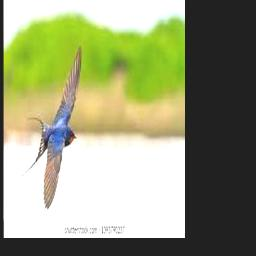Swallow: (21, 43, 82, 209)
